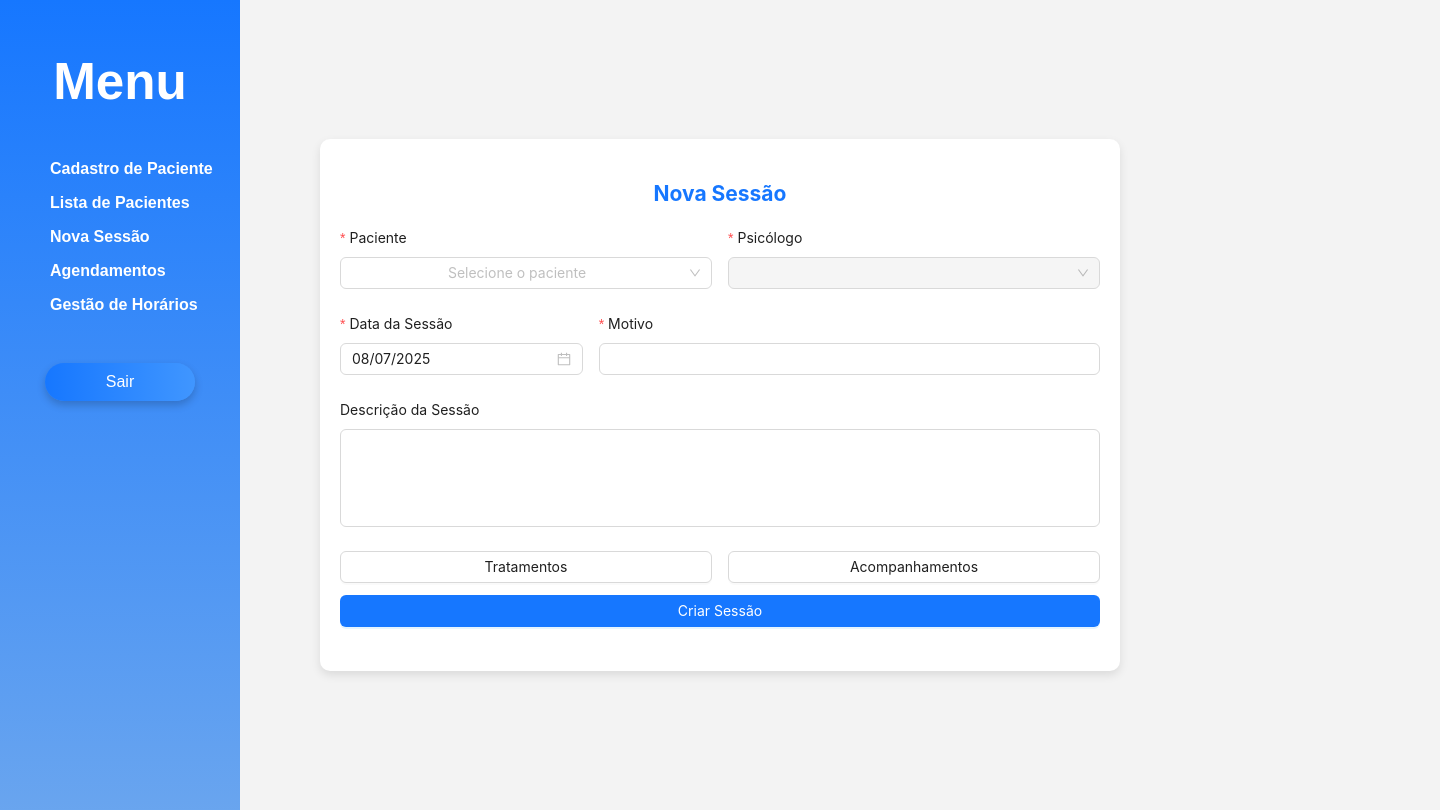
Scenario: SessionForm › valida campos obrigatórios ao submeter vazio
Click the button "Criar Sessão": point(720, 611) [340, 595, 1100, 627]
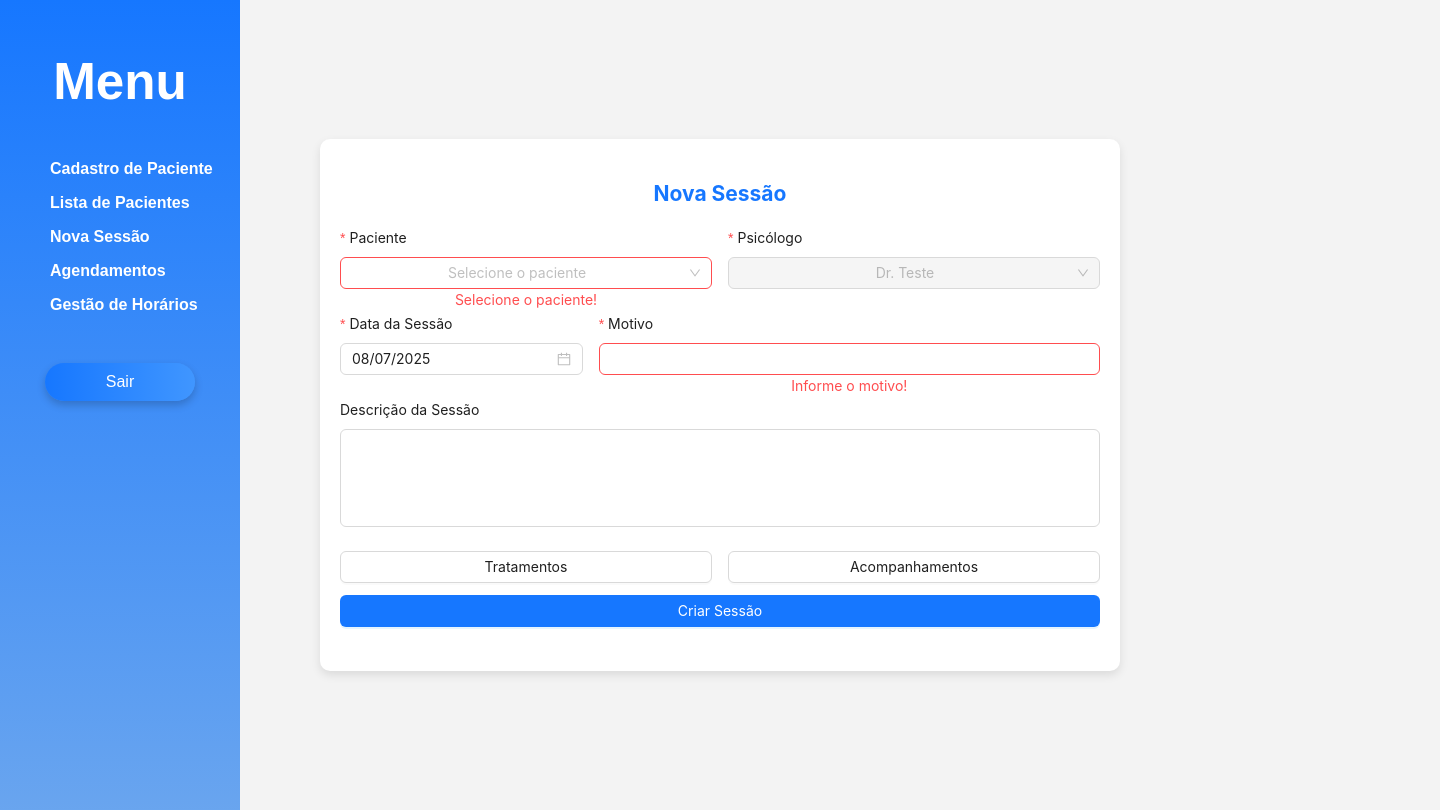
Expected: the text "Selecione o paciente!" is shown, [455, 291, 597, 308]
Expected: the text "Informe o motivo!" is shown, [791, 377, 907, 394]
